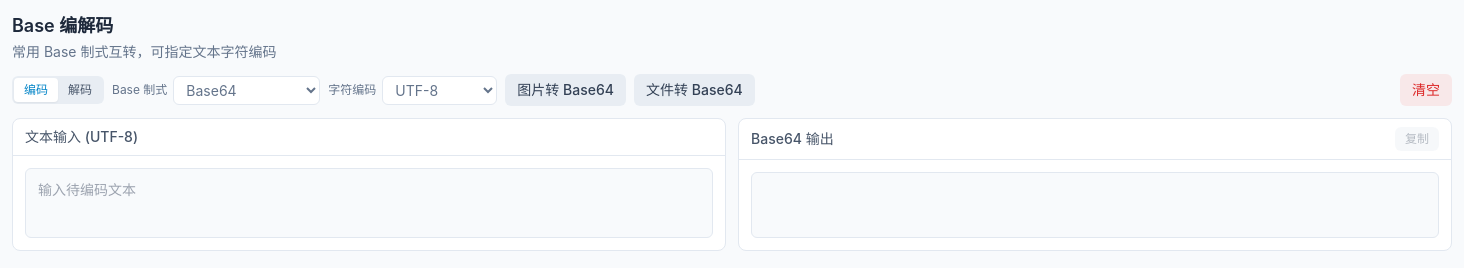
Test case: 工具组件冒烟测试 › Base 工具可切换制式与字符编码
The width and height of the screenshot is (1464, 268).
Select "Base32" in the dropdown labelled "Base 制式": (247, 90) [173, 76, 320, 104]
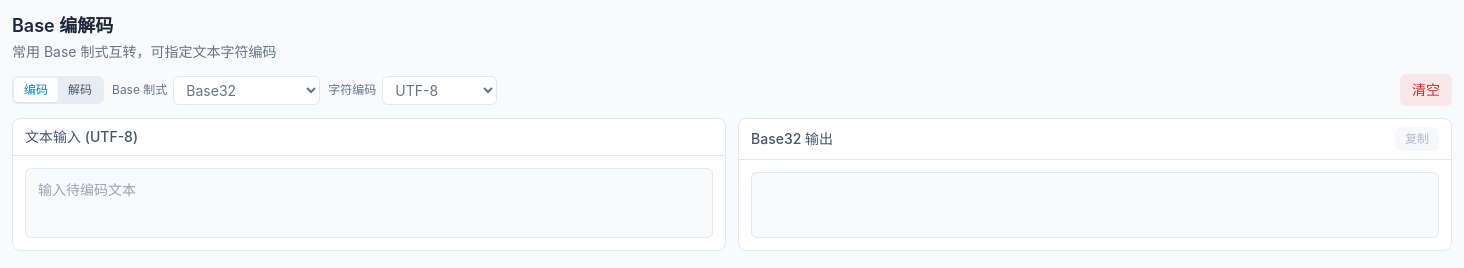
Select "UTF-16 LE" in the dropdown labelled "字符编码": (440, 90) [382, 76, 497, 104]
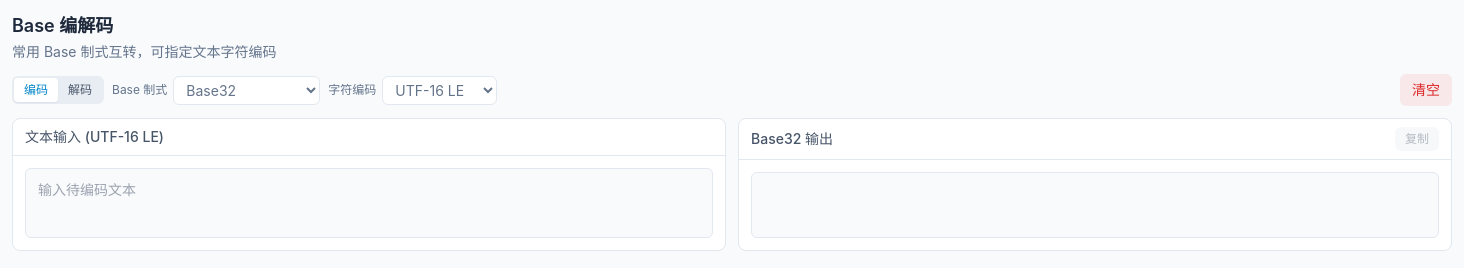
In the text box with placeholder "输入待编码文本": (369, 203) [25, 168, 713, 238], type "你好"
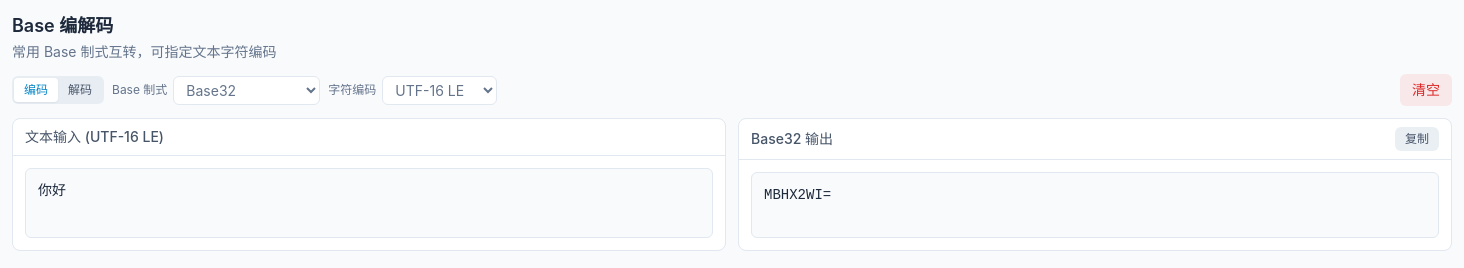
Expected: the text box below "Base32 输出" holds "MBHX2WI=", [751, 172, 1439, 238]
